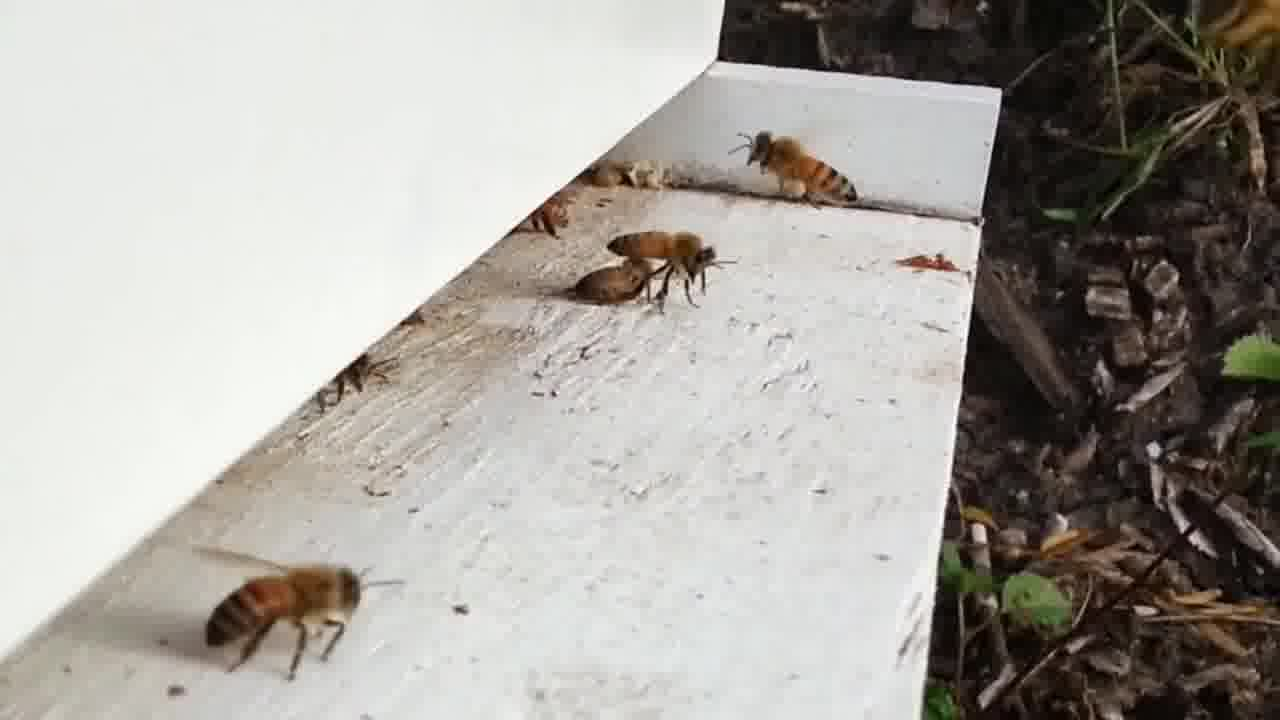pollen: (736, 128, 856, 212)
